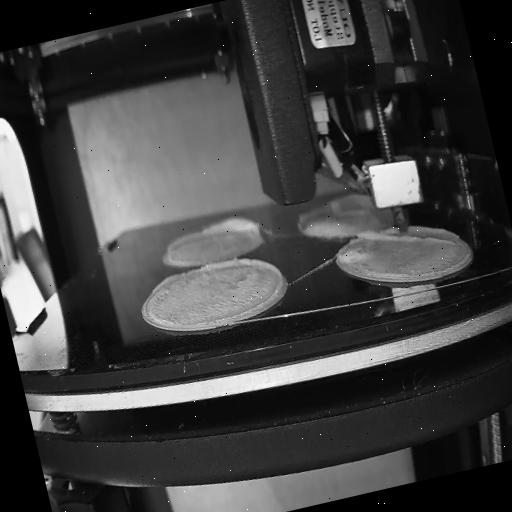over_extrusion: (200, 245, 290, 324), (356, 209, 457, 270), (199, 209, 268, 253), (148, 269, 186, 296), (164, 230, 202, 252)
